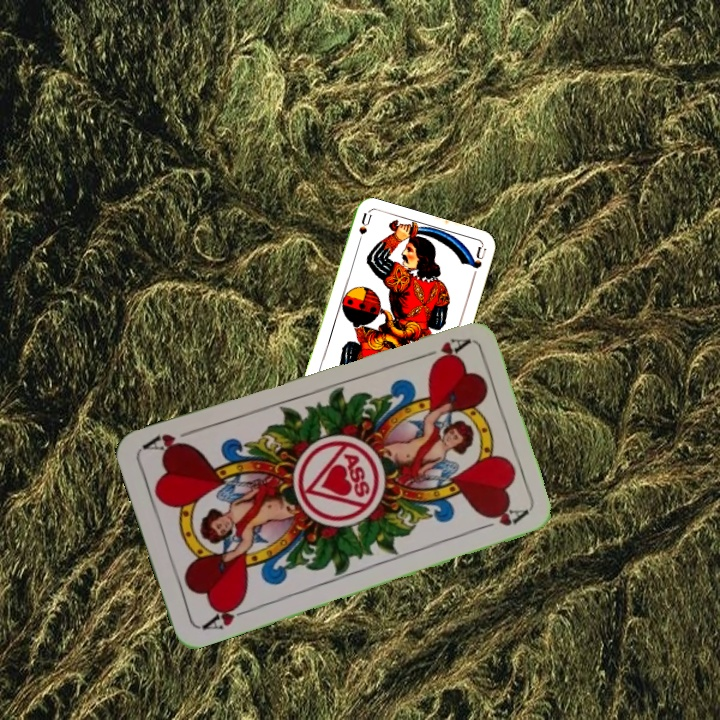HA: (198, 596, 255, 633), (414, 334, 472, 367)
SU: (352, 210, 374, 251)
